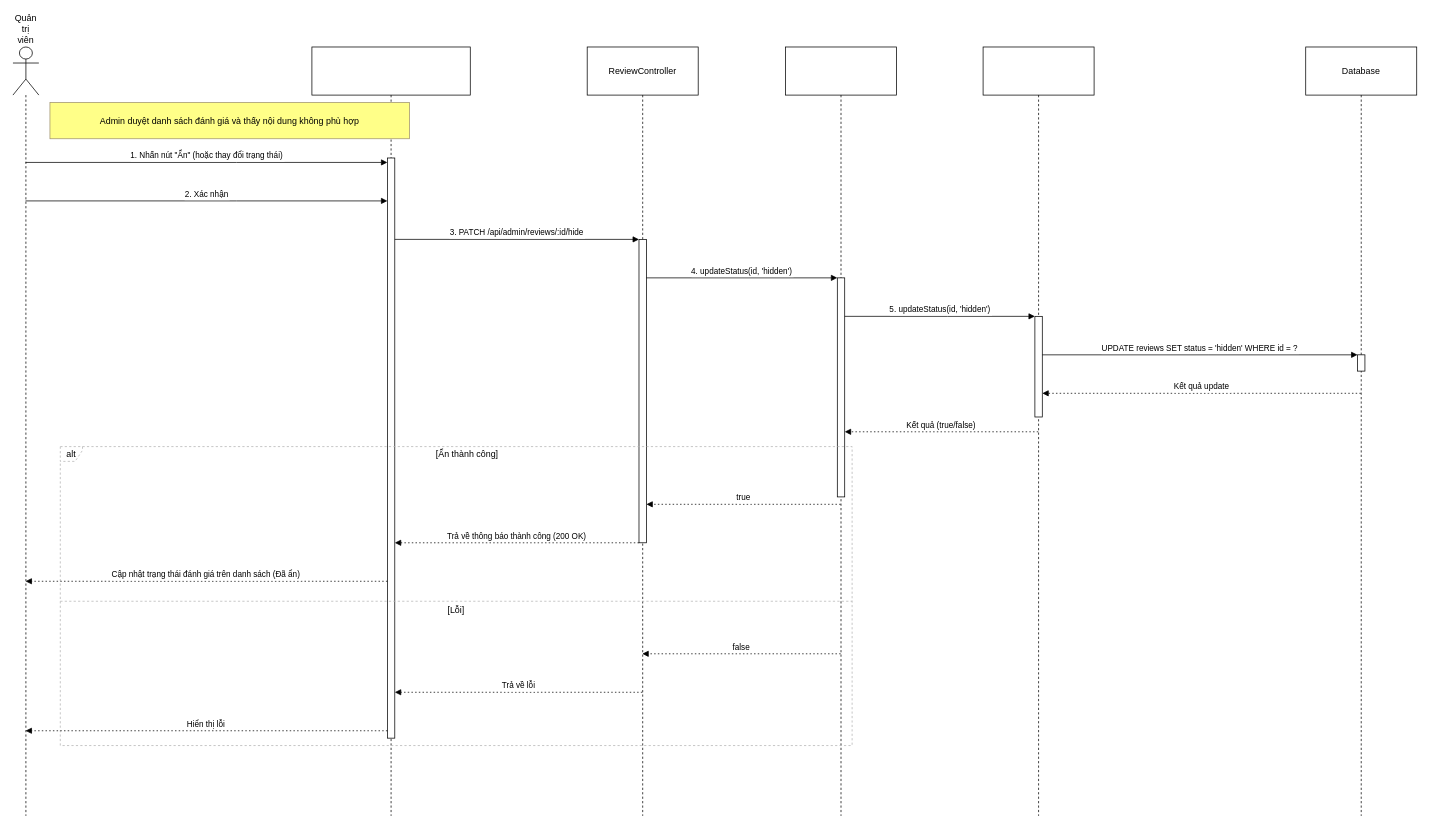
The diagram is 1430 pixels wide and 829 high, and some of its shapes have lost their labels. The shapes that lost their labels are listed below. From the top down, each one's box as (x1, y1, x2, y2) in pixels, then its label:
(311, 46, 470, 816): Giao diện Quản lý Đánh giá
(785, 46, 897, 816): ReviewService
(982, 46, 1094, 816): Review Model
